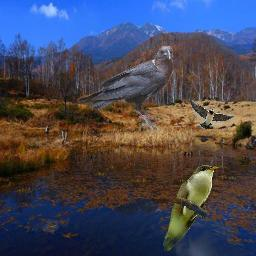Crow: (77, 46, 173, 132)
Cuckoo: (162, 164, 222, 251)
Swallow: (189, 98, 234, 129)
